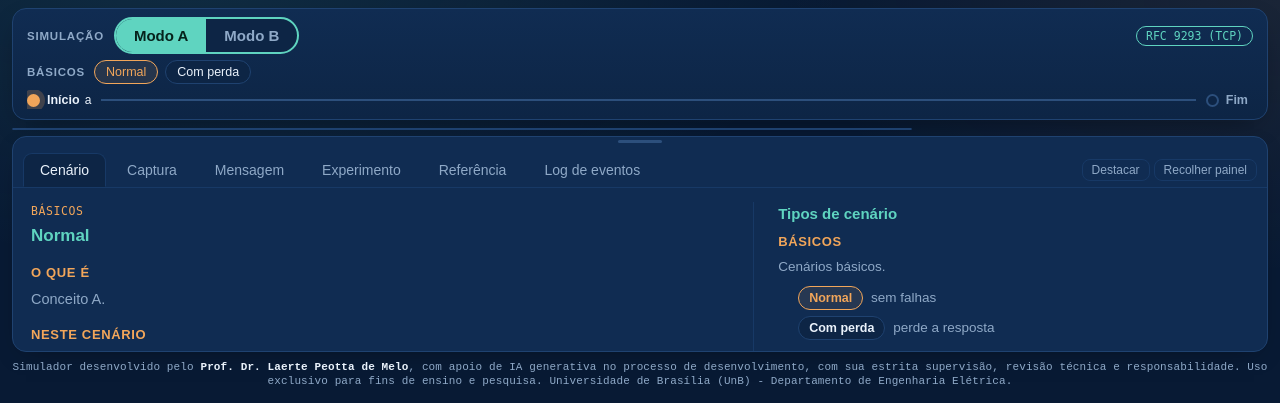
Scenario: Workbench › trocar de modo mostra os campos e abas do modo e esconde os dos outros
Expected: the field labelled "Só no modo B" is not shown
Click the button "Modo B": {"x": 252, "y": 36} [206,19,297,52]
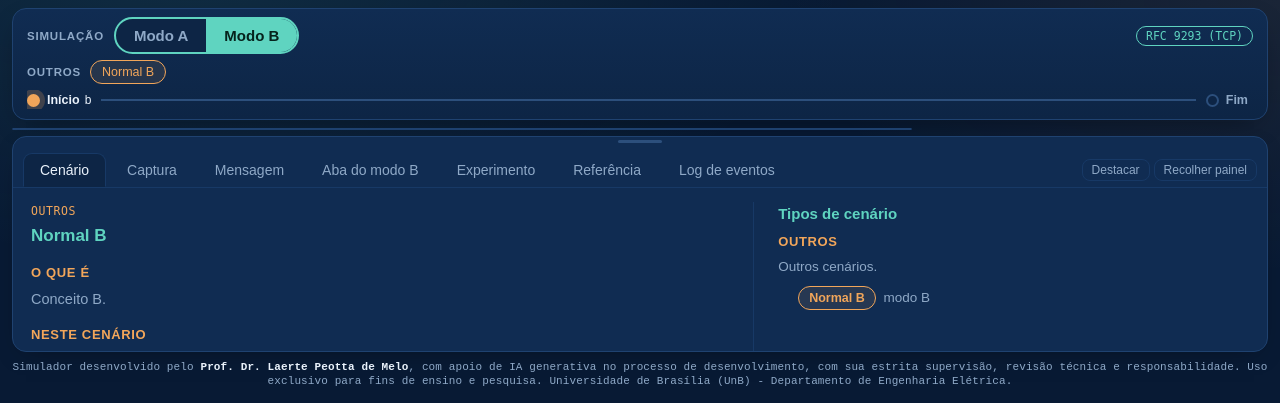
Expected: the button "Normal B" below "Simulação" is shown, [90,60,166,84]
Expected: the button "Com perda" is gone
Click the tab "Aba do modo B": {"x": 370, "y": 170} [305,153,436,187]
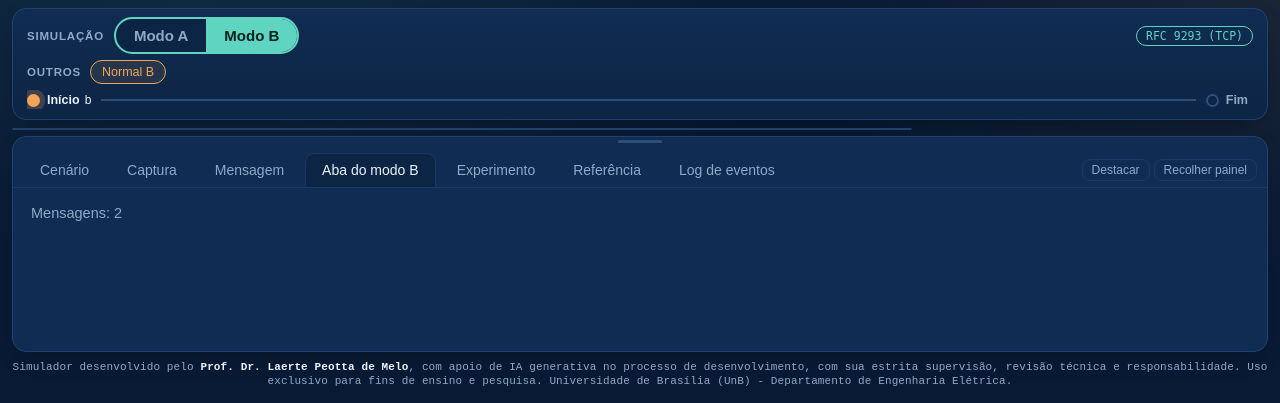
Expected: the text "Mensagens: 2" is shown, [31,205,122,221]
